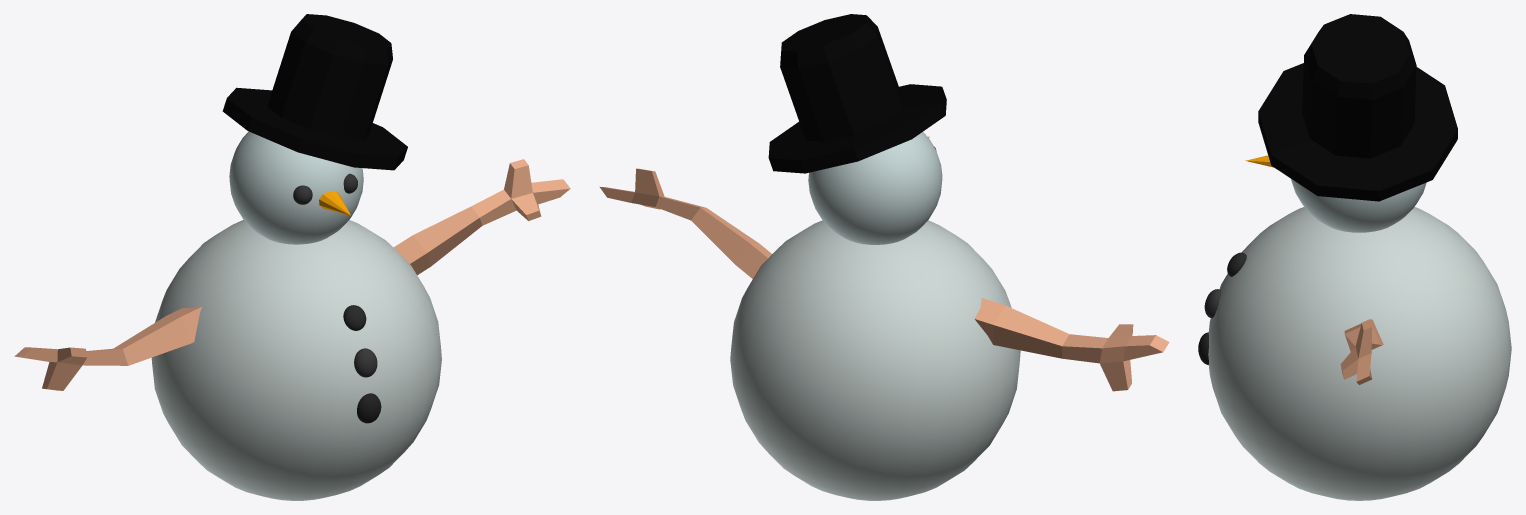
File: bossSnezak.fbx
The picture shows the model from 3 angles, left to right: view 1: azimuth 30°, elevation 25°; view 2: azimuth 150°, elevation 25°; view 3: azimuth 270°, elevation 25°; orthographic projection. The views are drawn at different scales.
Visible parts, largest first — view 1: Sphere, Circle.001, Sphere.001, Cube, Cube.001; view 2: Sphere, Circle.001, Sphere.001, Cube.001, Cube; view 3: Sphere, Circle.001, Sphere.001, Cube.
Part boxes in pixels (left/top/right/bottom): Sphere: left=151, top=220, right=441, bottom=500; Circle.001: left=222, top=14, right=407, bottom=170; Sphere.001: left=229, top=131, right=363, bottom=244; Cube: left=394, top=159, right=570, bottom=275; Cube.001: left=14, top=306, right=201, bottom=390; Sphere: left=730, top=220, right=1020, bottom=500; Circle.001: left=768, top=14, right=946, bottom=173; Sphere.001: left=808, top=132, right=942, bottom=244; Cube.001: left=974, top=298, right=1169, bottom=391; Cube: left=599, top=168, right=771, bottom=278; Sphere: left=1208, top=207, right=1511, bottom=500; Circle.001: left=1258, top=14, right=1457, bottom=201; Sphere.001: left=1291, top=179, right=1426, bottom=232; Cube: left=1340, top=319, right=1383, bottom=384.
Bounding box in the file's own units: 2784 × 2187 × 1295.
